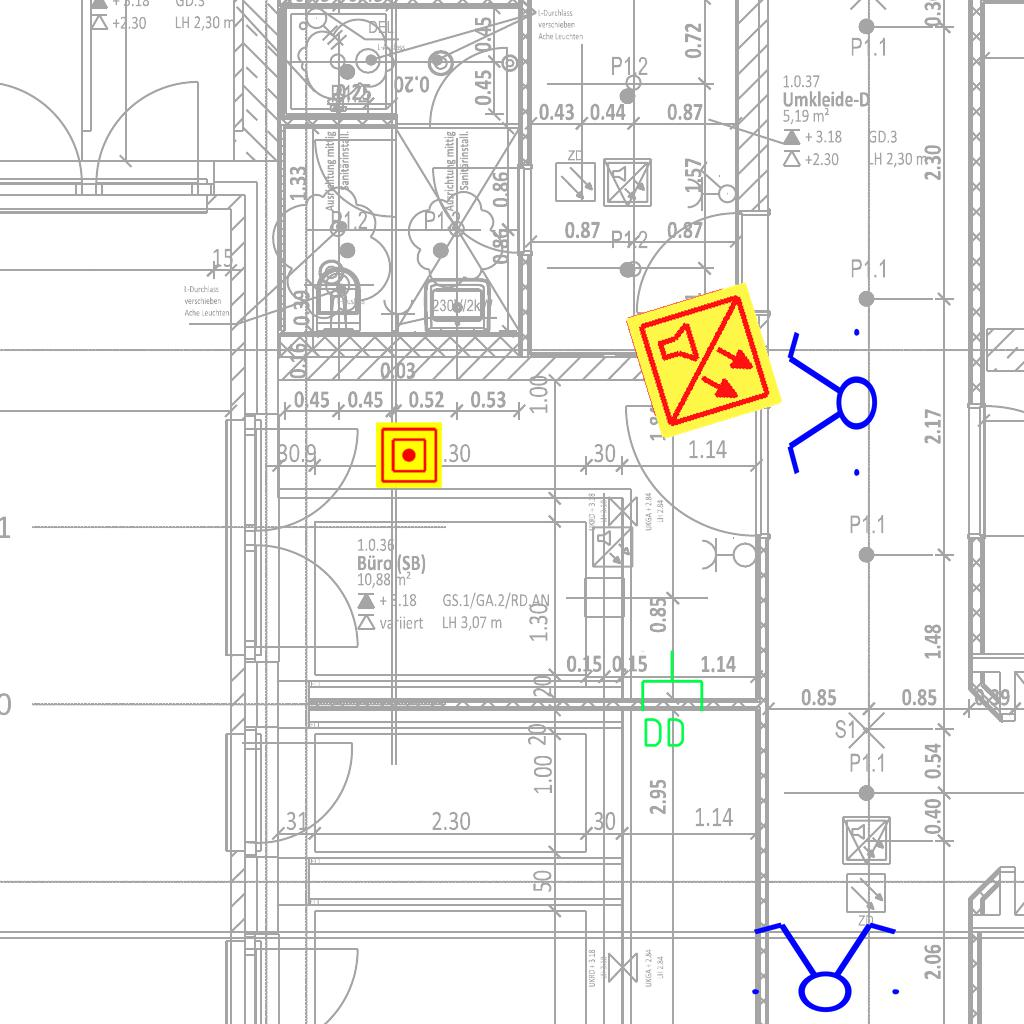Datenanschluss_zweifach: (637, 648, 706, 751)
NAM-Nichtautomatischer_Melder: (376, 422, 442, 488)
OKW_Multisensormelder_(Kombination_optischer_Rauch-Kahlenmonoxid_Waerme-Melder): (621, 278, 787, 444)
Serienschalter: (783, 320, 879, 488), (740, 918, 908, 1014)
